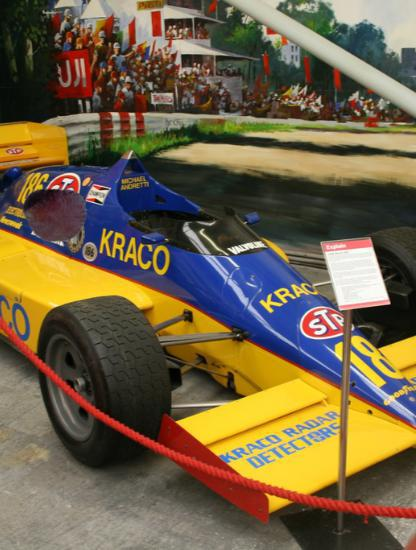Salak: (22, 183, 88, 249)
